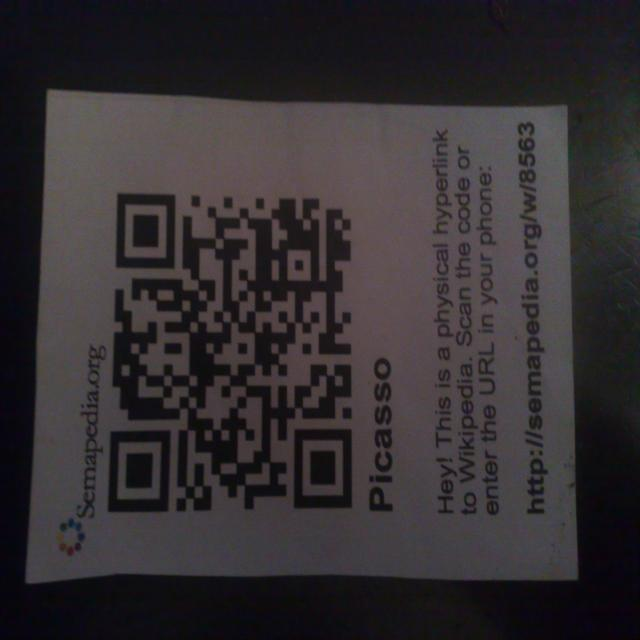qr-code: (108, 194, 352, 512)
